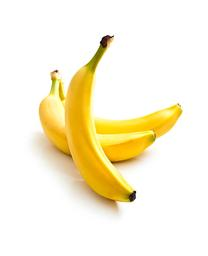banana: (40, 32, 183, 206)
